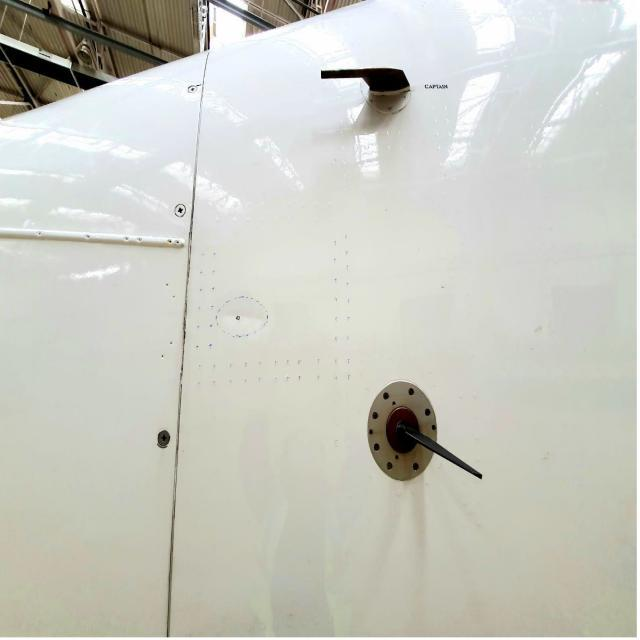crack: (220, 311, 264, 324)
